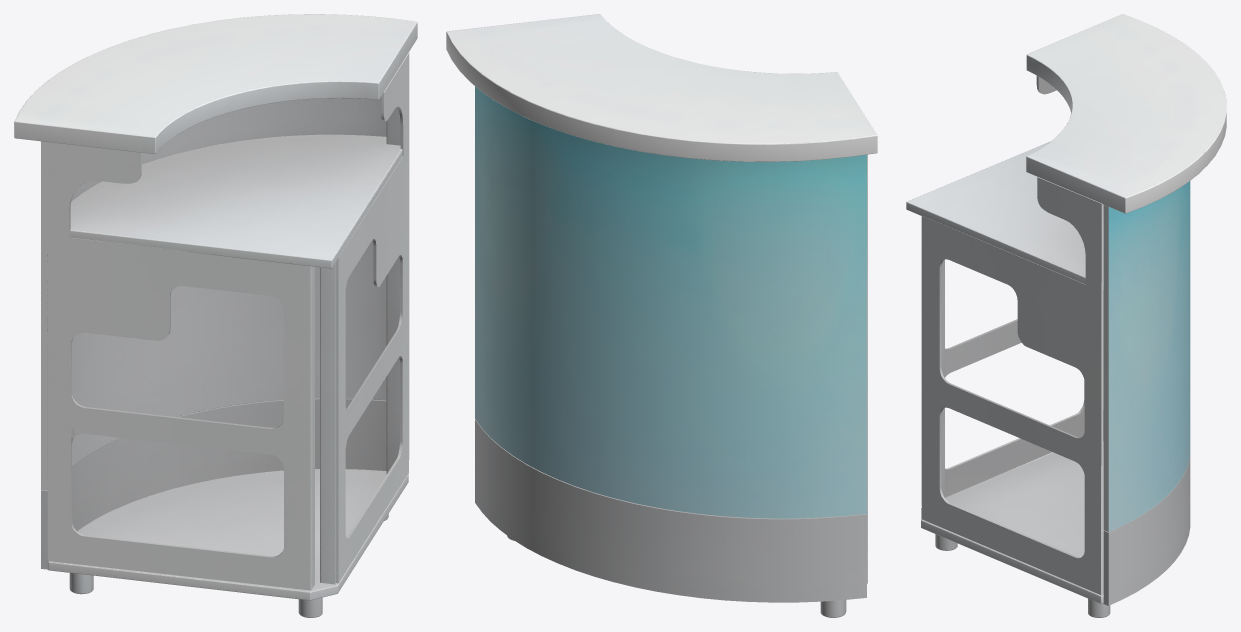
The model's file is lumino_90_white_wood.glb.
3 renders of one model, left to right at view 1: azimuth 30°, elevation 25°; view 2: azimuth 150°, elevation 25°; view 3: azimuth 270°, elevation 25°, orthographic. The views are drawn at different scales.
Parts seen in each view (by area): view 1: lumino_90-white; view 2: lumino_90-white; view 3: lumino_90-white.
Boxes of the visible parts, x1,y1,x2,y2 form: lumino_90-white: [14, 14, 417, 617]; lumino_90-white: [446, 14, 877, 617]; lumino_90-white: [906, 14, 1226, 617].
Size of the model in its own units: 0.9862 by 1.1 by 0.7255.
1 material, 1 textured.
